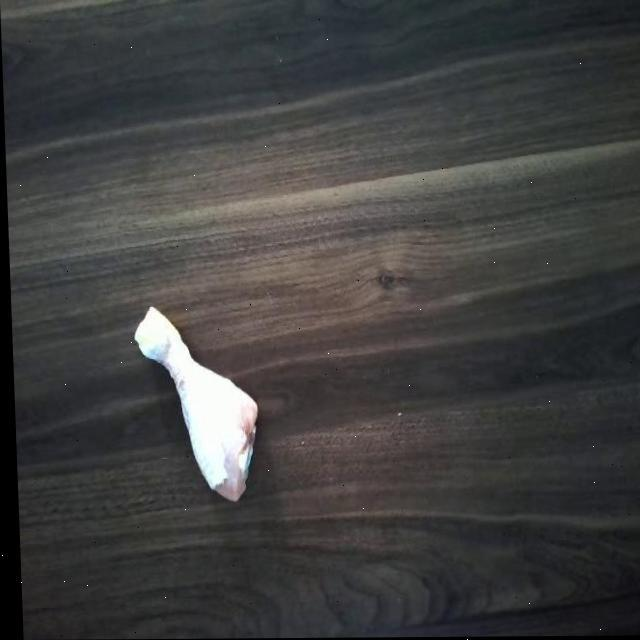leg: (123, 304, 260, 500)
